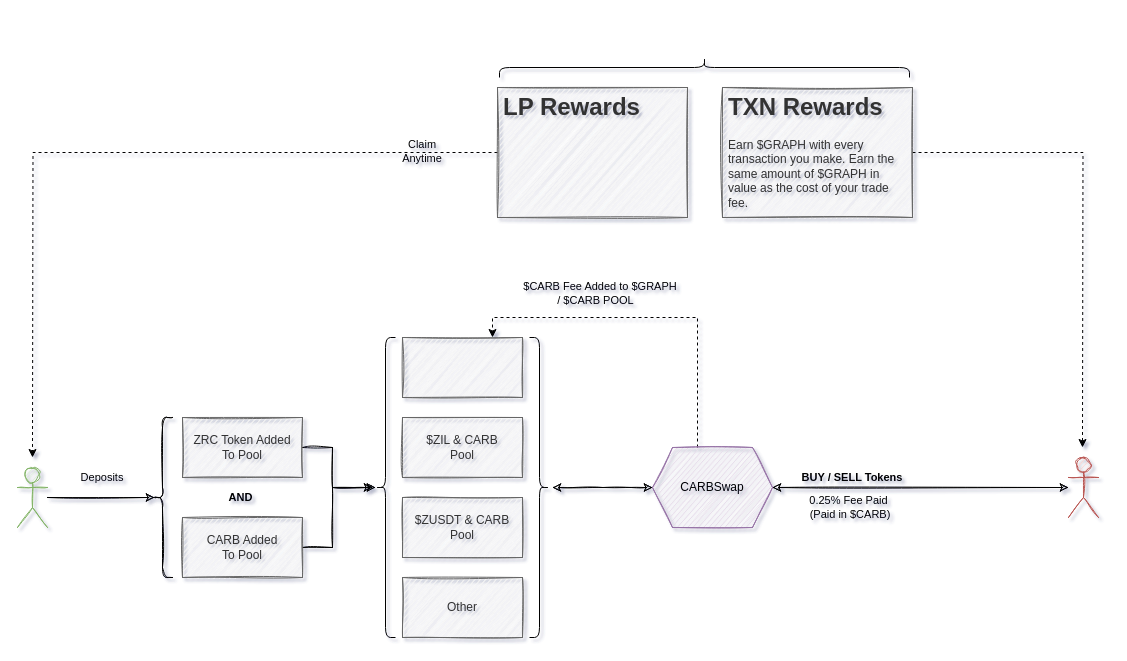
The diagram is 1127 pixels wide and 661 high, and some of its shapes have lost their labels. The shapes that lost their labels are listed below. From the top down, each one's centre as x and y in pixels, then its label:
(x=704, y=67): $GRAPH
(x=462, y=367): $GRPH & CARB Pool
(x=32, y=497): LPer
(x=1083, y=487): Traders
